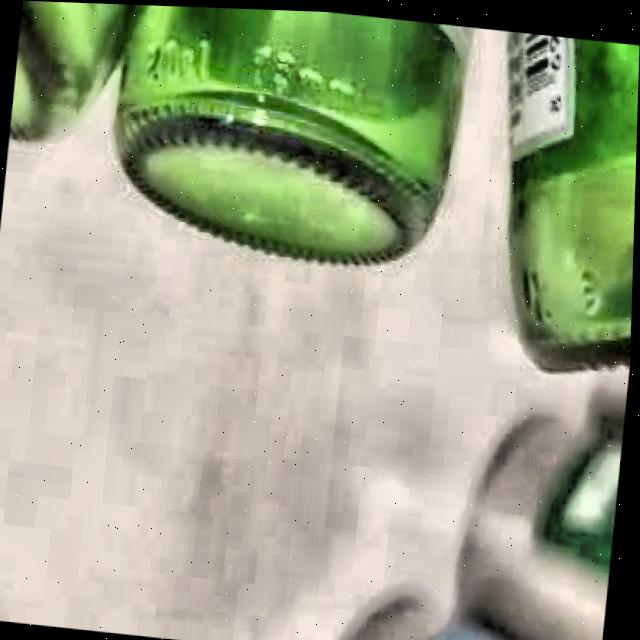glass: (9, 1, 471, 262)
